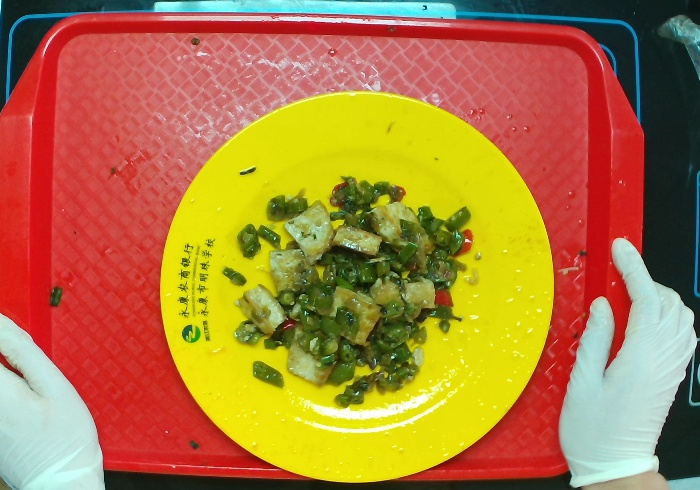YKMZ-Huang_Se_Mian_Pan: (159, 89, 556, 486)
